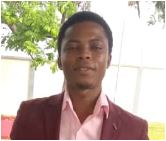without_facemask: (64, 57, 111, 94)
